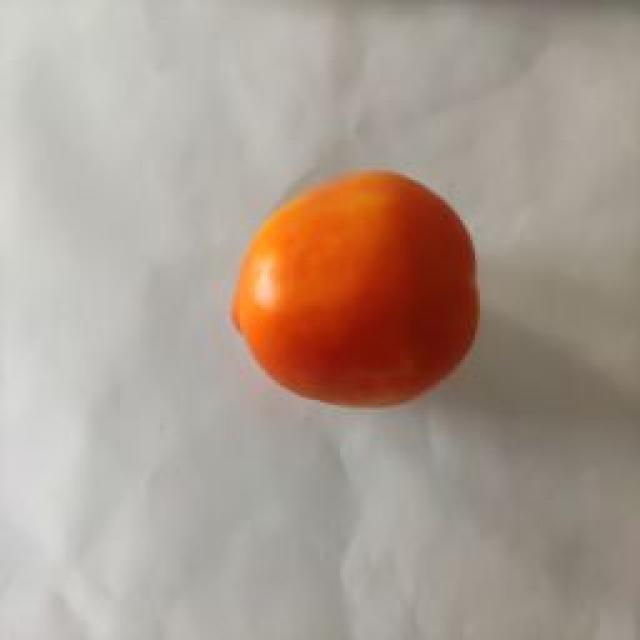tomato: (230, 167, 482, 405)
